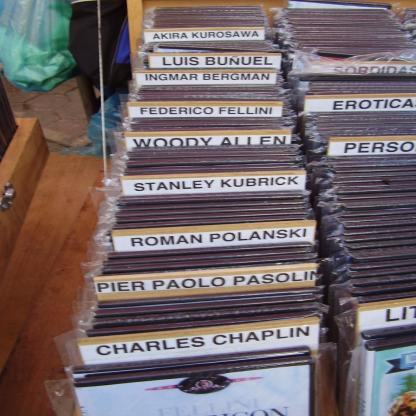book: (66, 353, 312, 407)
